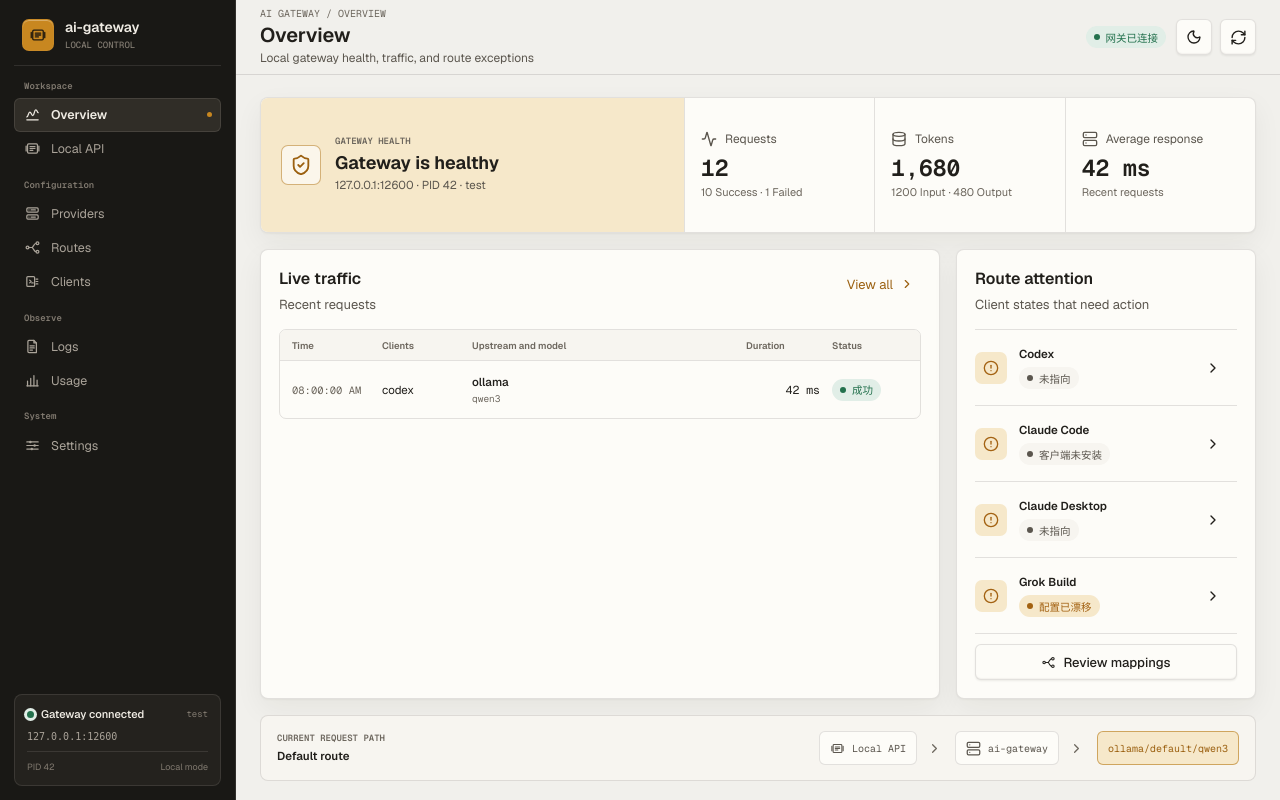
it: desktop workflow › keeps focus while typing a model id
The image size is (1280, 800).
expect the heading "Overview" is shown: met, box [260,22,351,48]
Click the button "Providers": (118, 214) [14,197,221,231]
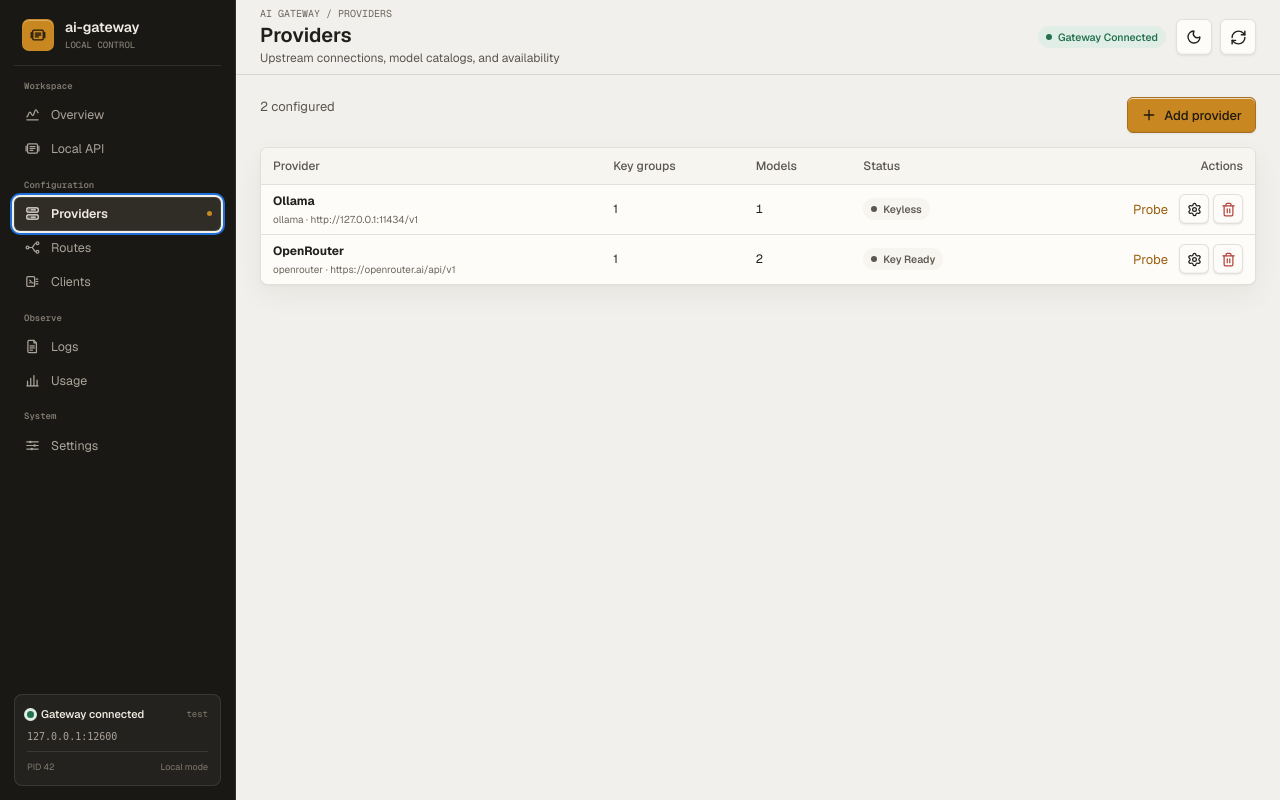
Click the button "Add provider": (1192, 115) [1127,97,1256,133]
(page scrolled)
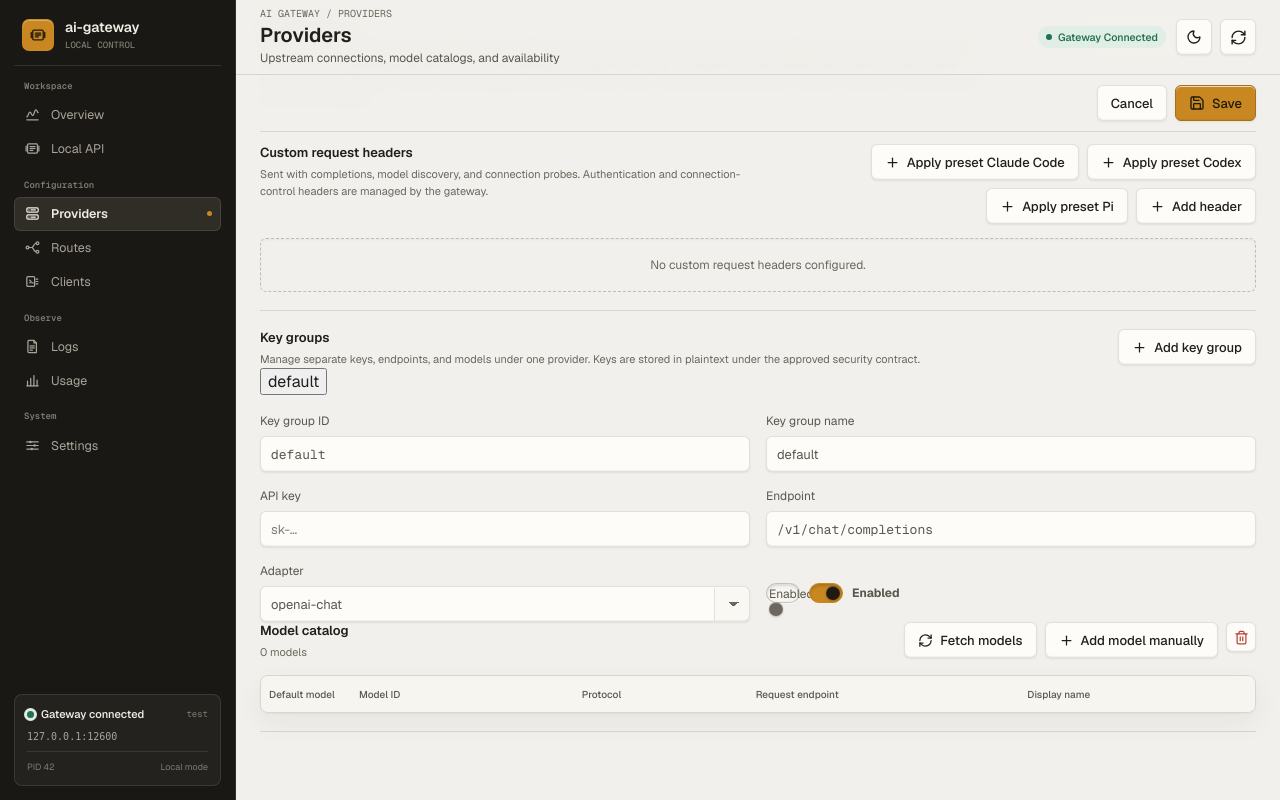
Click the button "Add model manually": (1131, 640) [1044,622,1218,658]
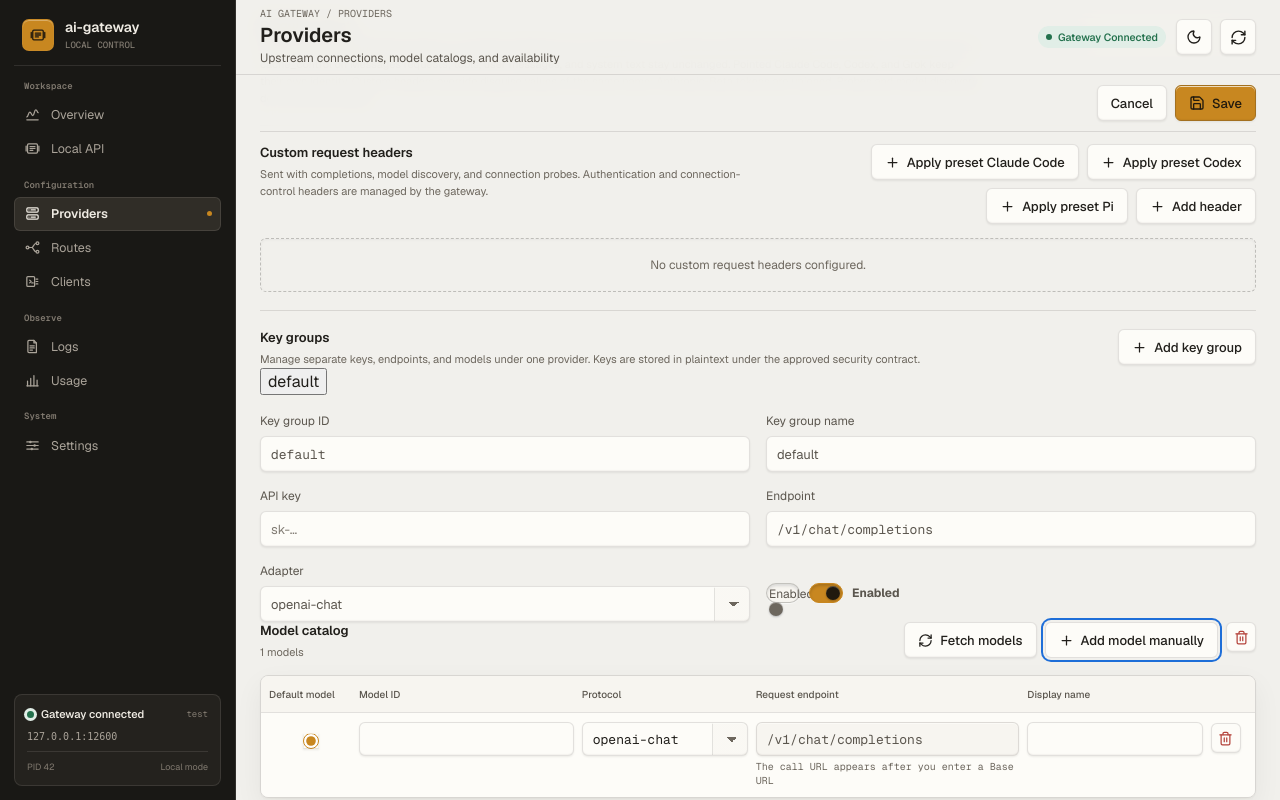
expect the 1st field named "Model ID" is shown: met
Click the 1st field named "Model ID": (466, 739) [359,722,574,756]
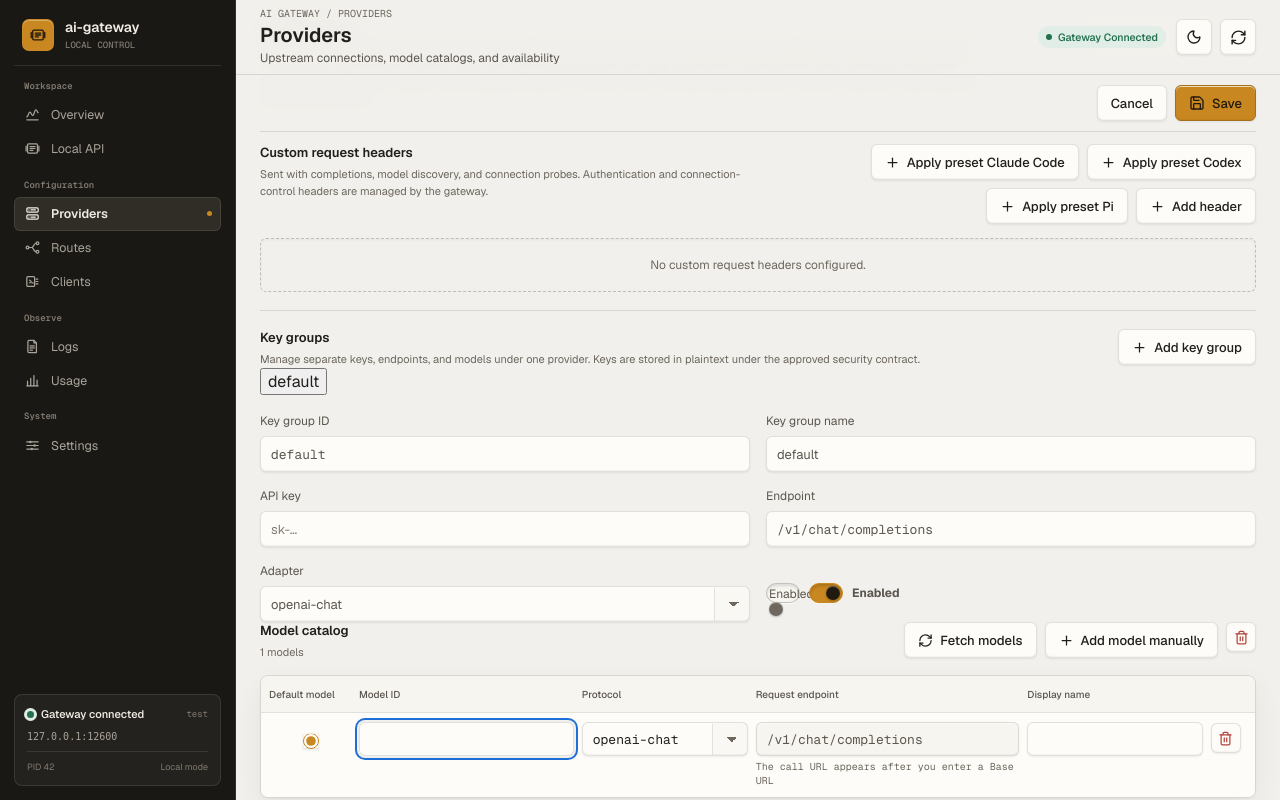
Type keys "claude-opus-5"
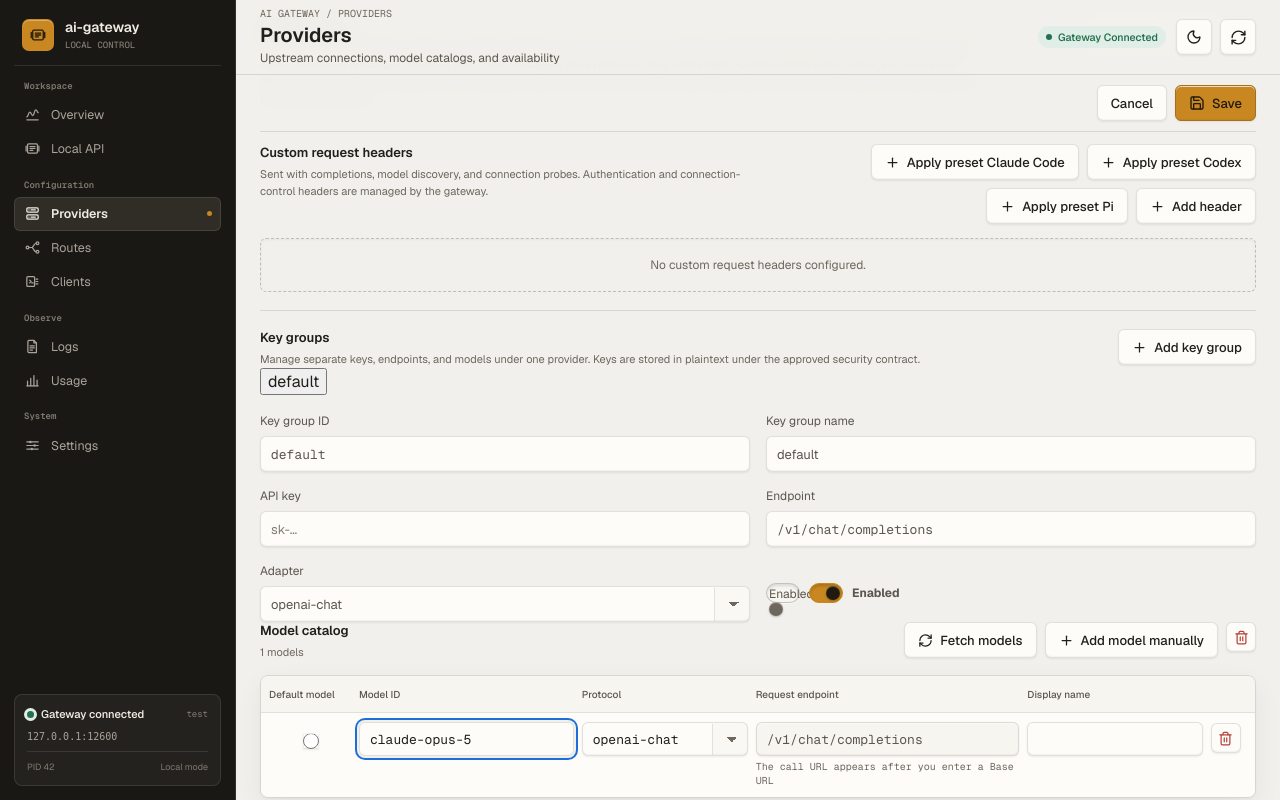
expect the 1st field named "Model ID" holds "claude-opus-5": met, box [359,722,574,756]
